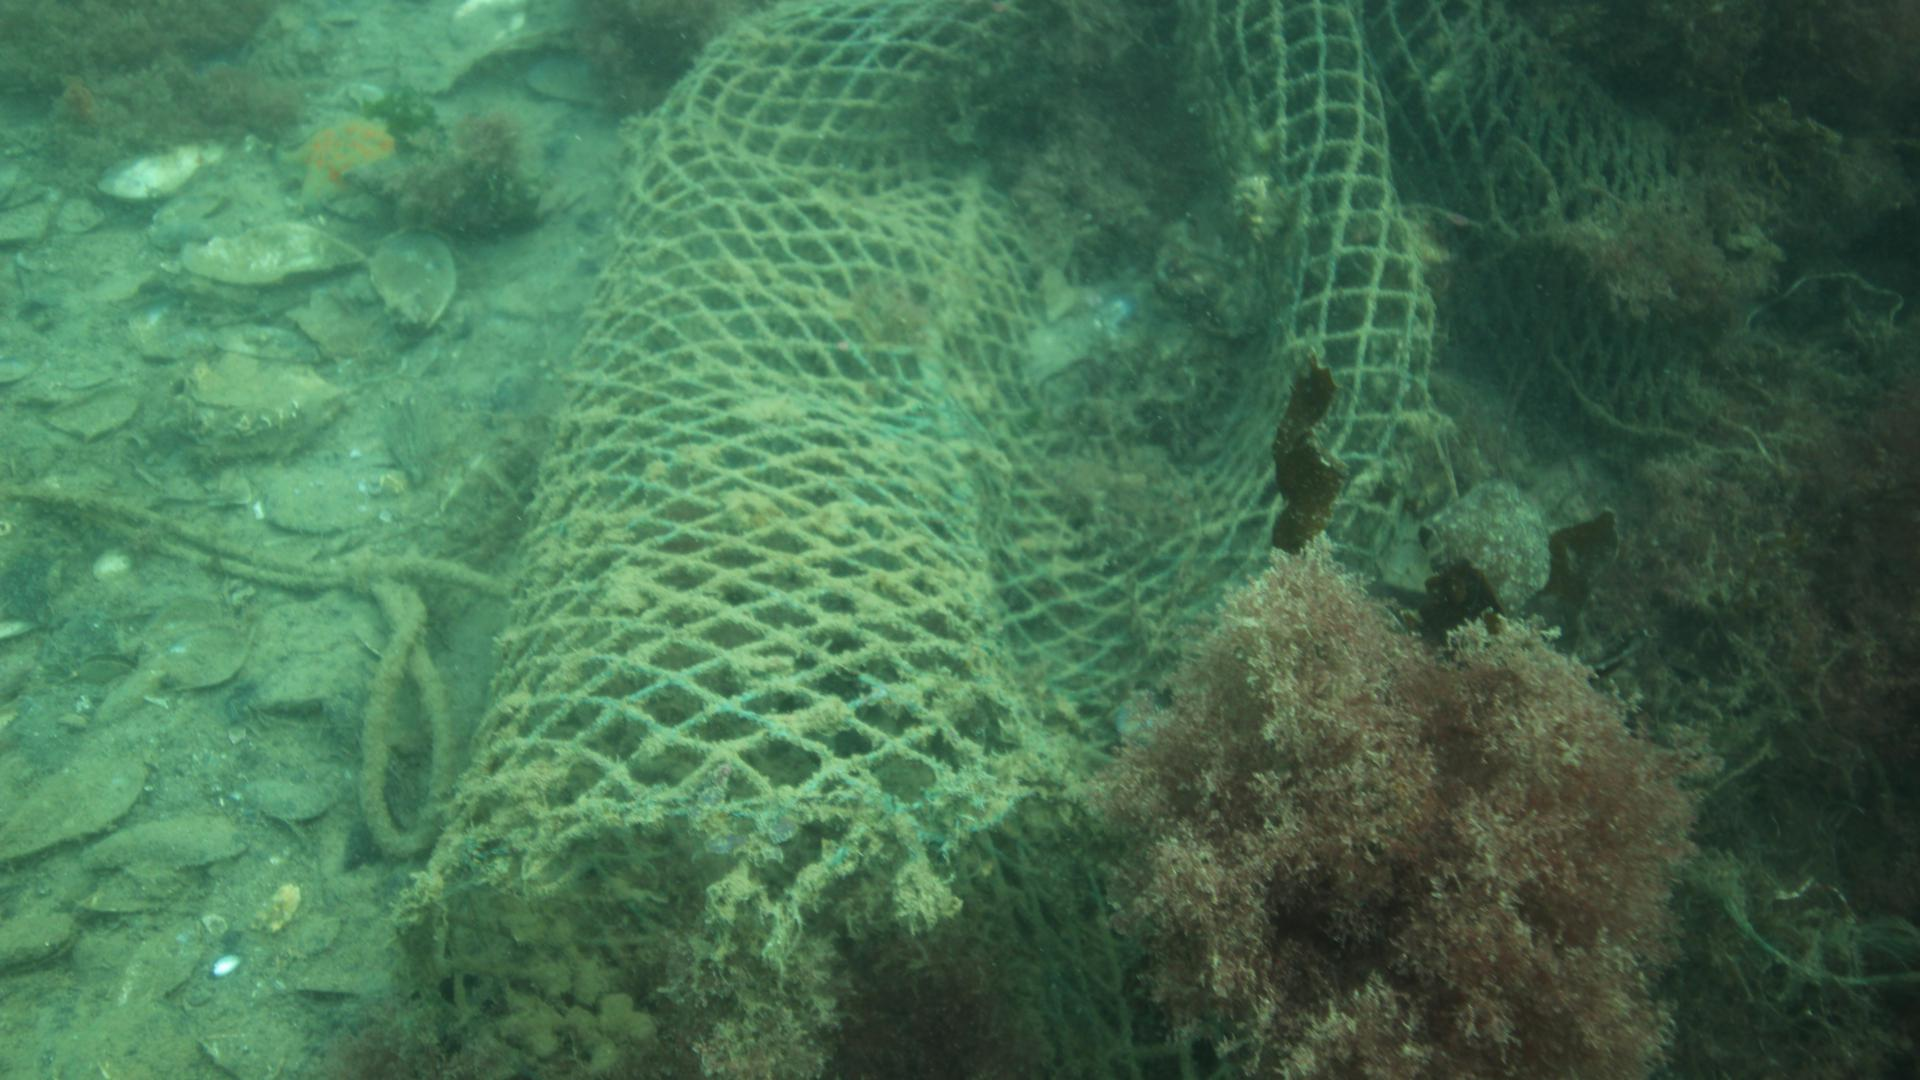bundle of ropes: (0, 487, 508, 855)
fish net: (446, 0, 1698, 1015)
